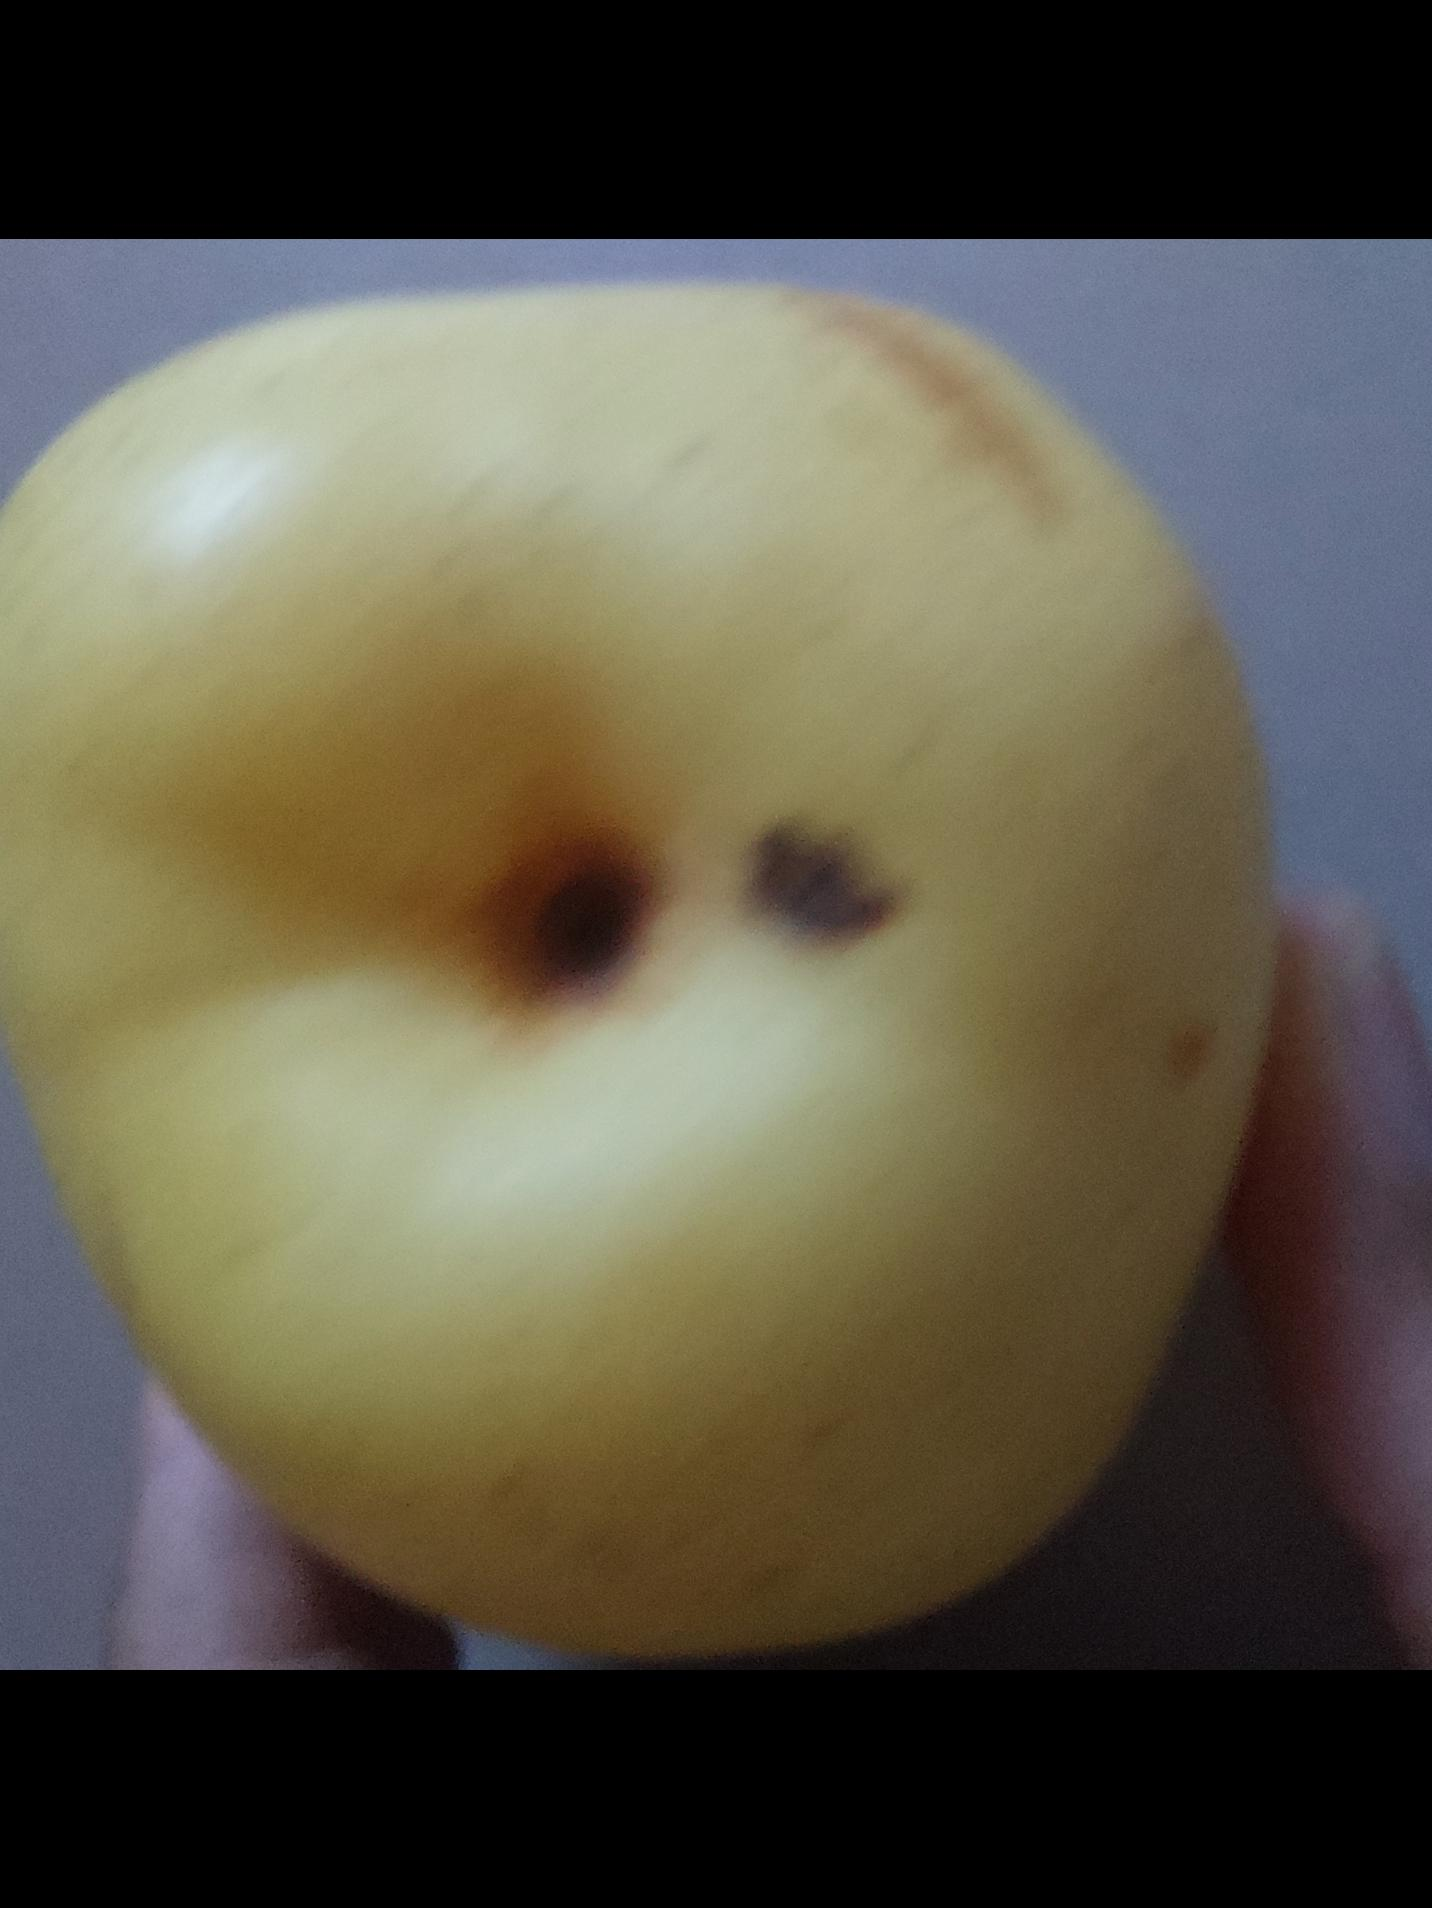Good Pear: (0, 262, 1307, 1658)
